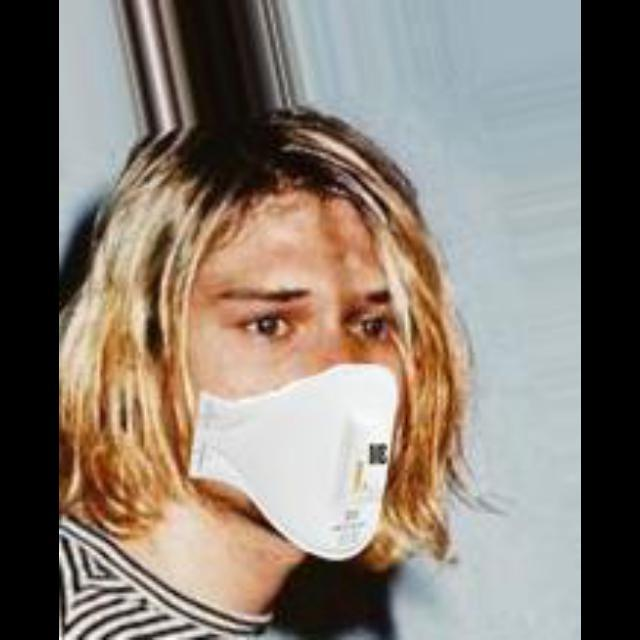suspicion: (108, 138, 448, 560)
